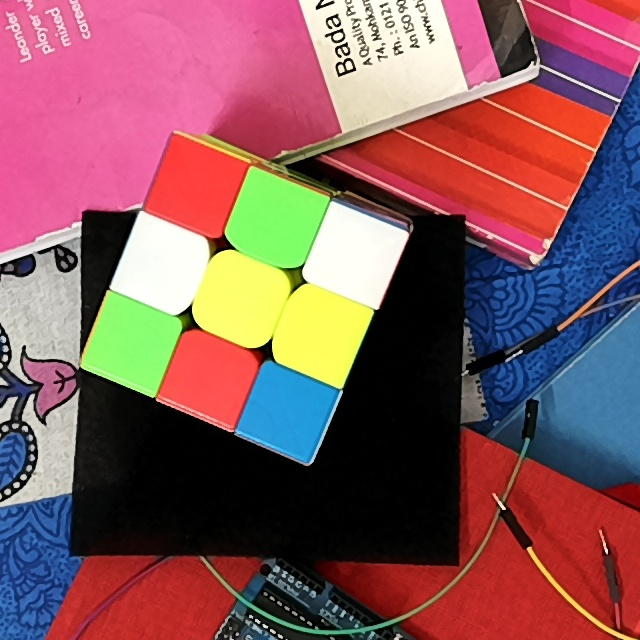tile: (289, 305, 351, 366), (244, 192, 304, 253), (323, 226, 384, 285), (211, 270, 272, 329), (134, 234, 192, 296), (255, 384, 318, 440), (167, 160, 222, 221), (103, 316, 161, 372), (182, 349, 238, 402)
